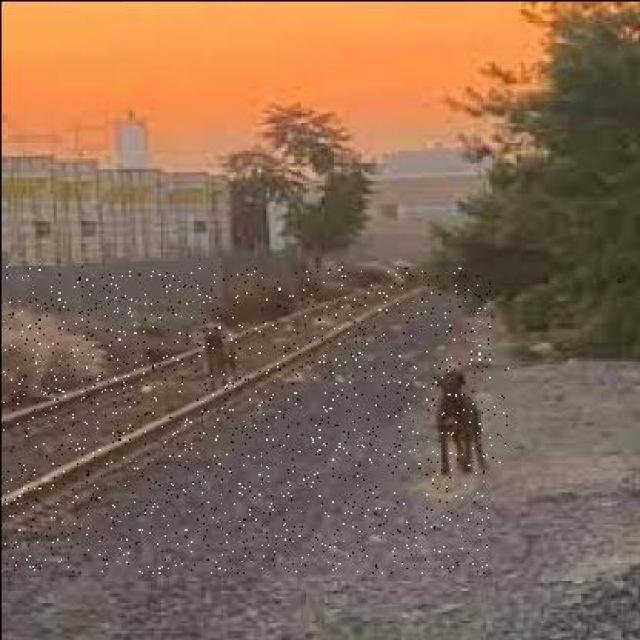danger: (420, 363, 508, 474), (177, 306, 246, 402)
rail: (2, 267, 488, 572)
